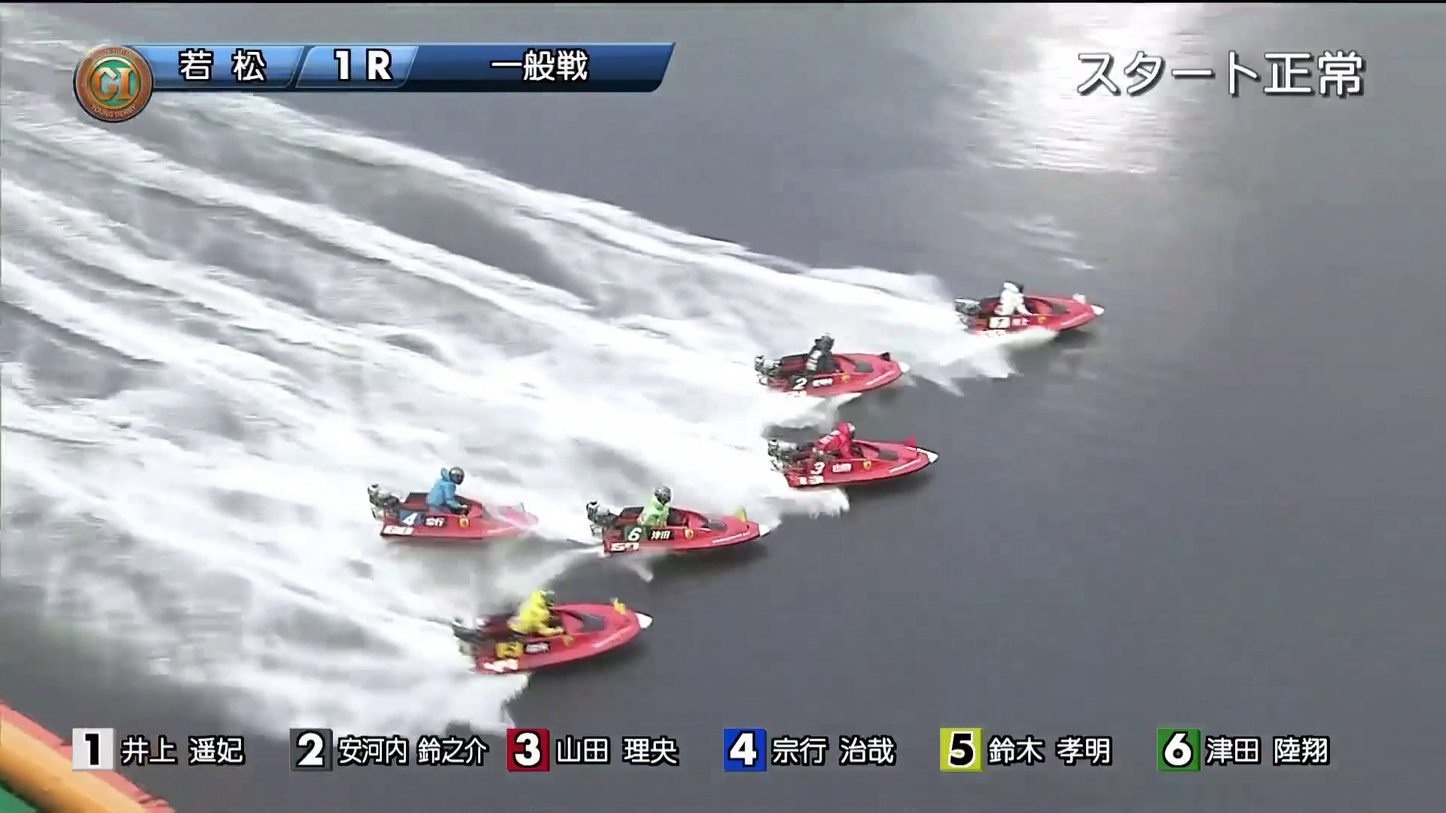１号艇: (981, 283, 1119, 336)
２号艇: (767, 334, 895, 395)
３号艇: (799, 430, 940, 477)
４号艇: (610, 494, 731, 559)
５号艇: (380, 494, 504, 549)
６号艇: (523, 617, 623, 674)
